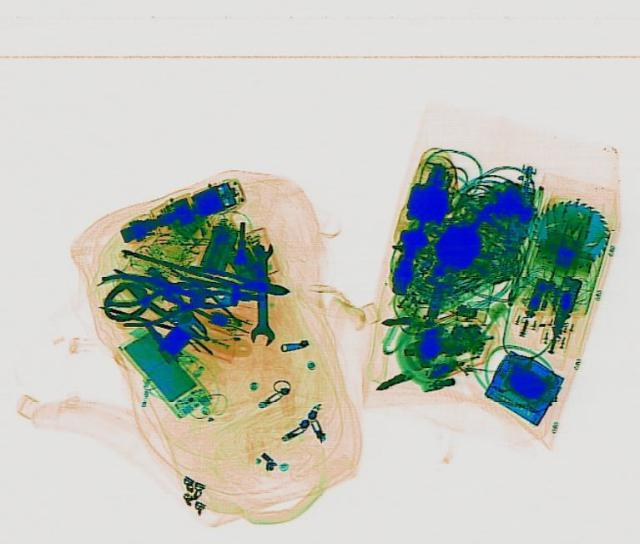Pliers: (98, 272, 225, 324), (178, 259, 290, 297), (99, 269, 188, 301)
Wrench: (250, 242, 270, 342)
